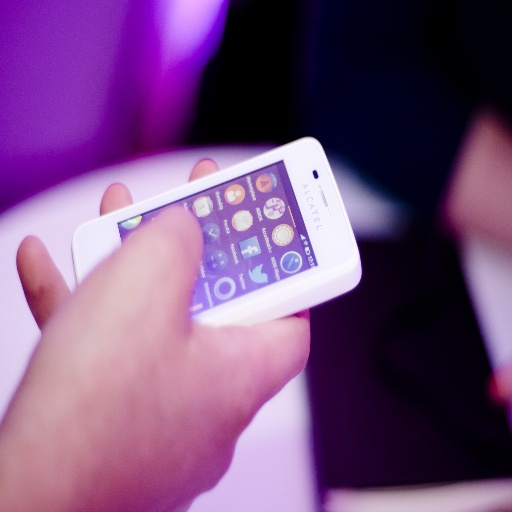hand: (1, 132, 365, 510)
